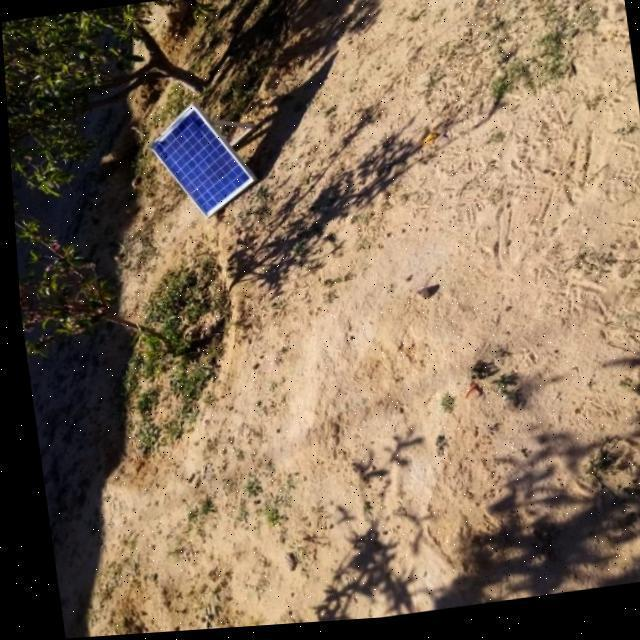Normal Solar Panel: (141, 99, 253, 226)
